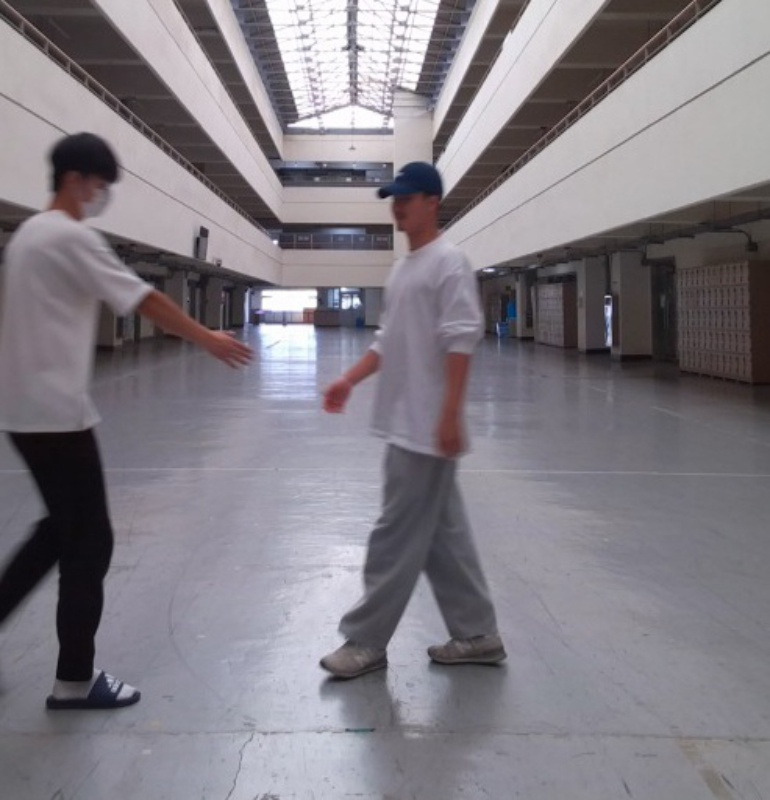person: (314, 160, 507, 674)
